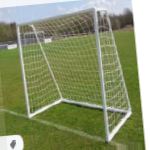goals: (15, 5, 133, 144)
